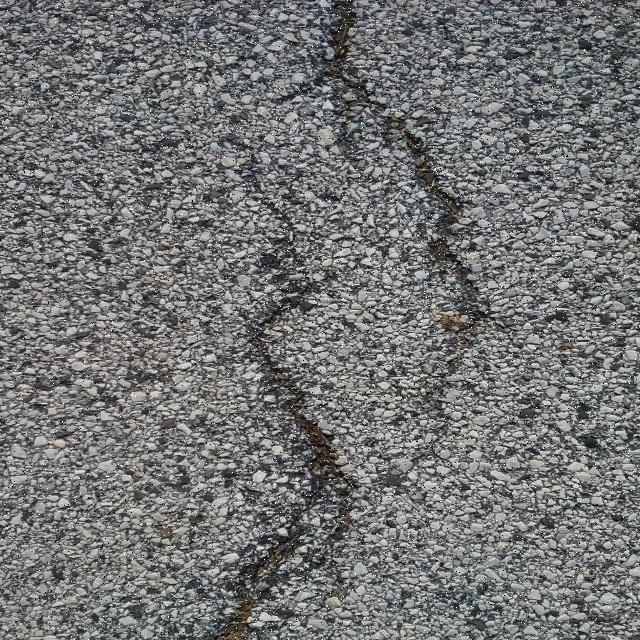Crack: (267, 0, 496, 394), (212, 249, 354, 640)
